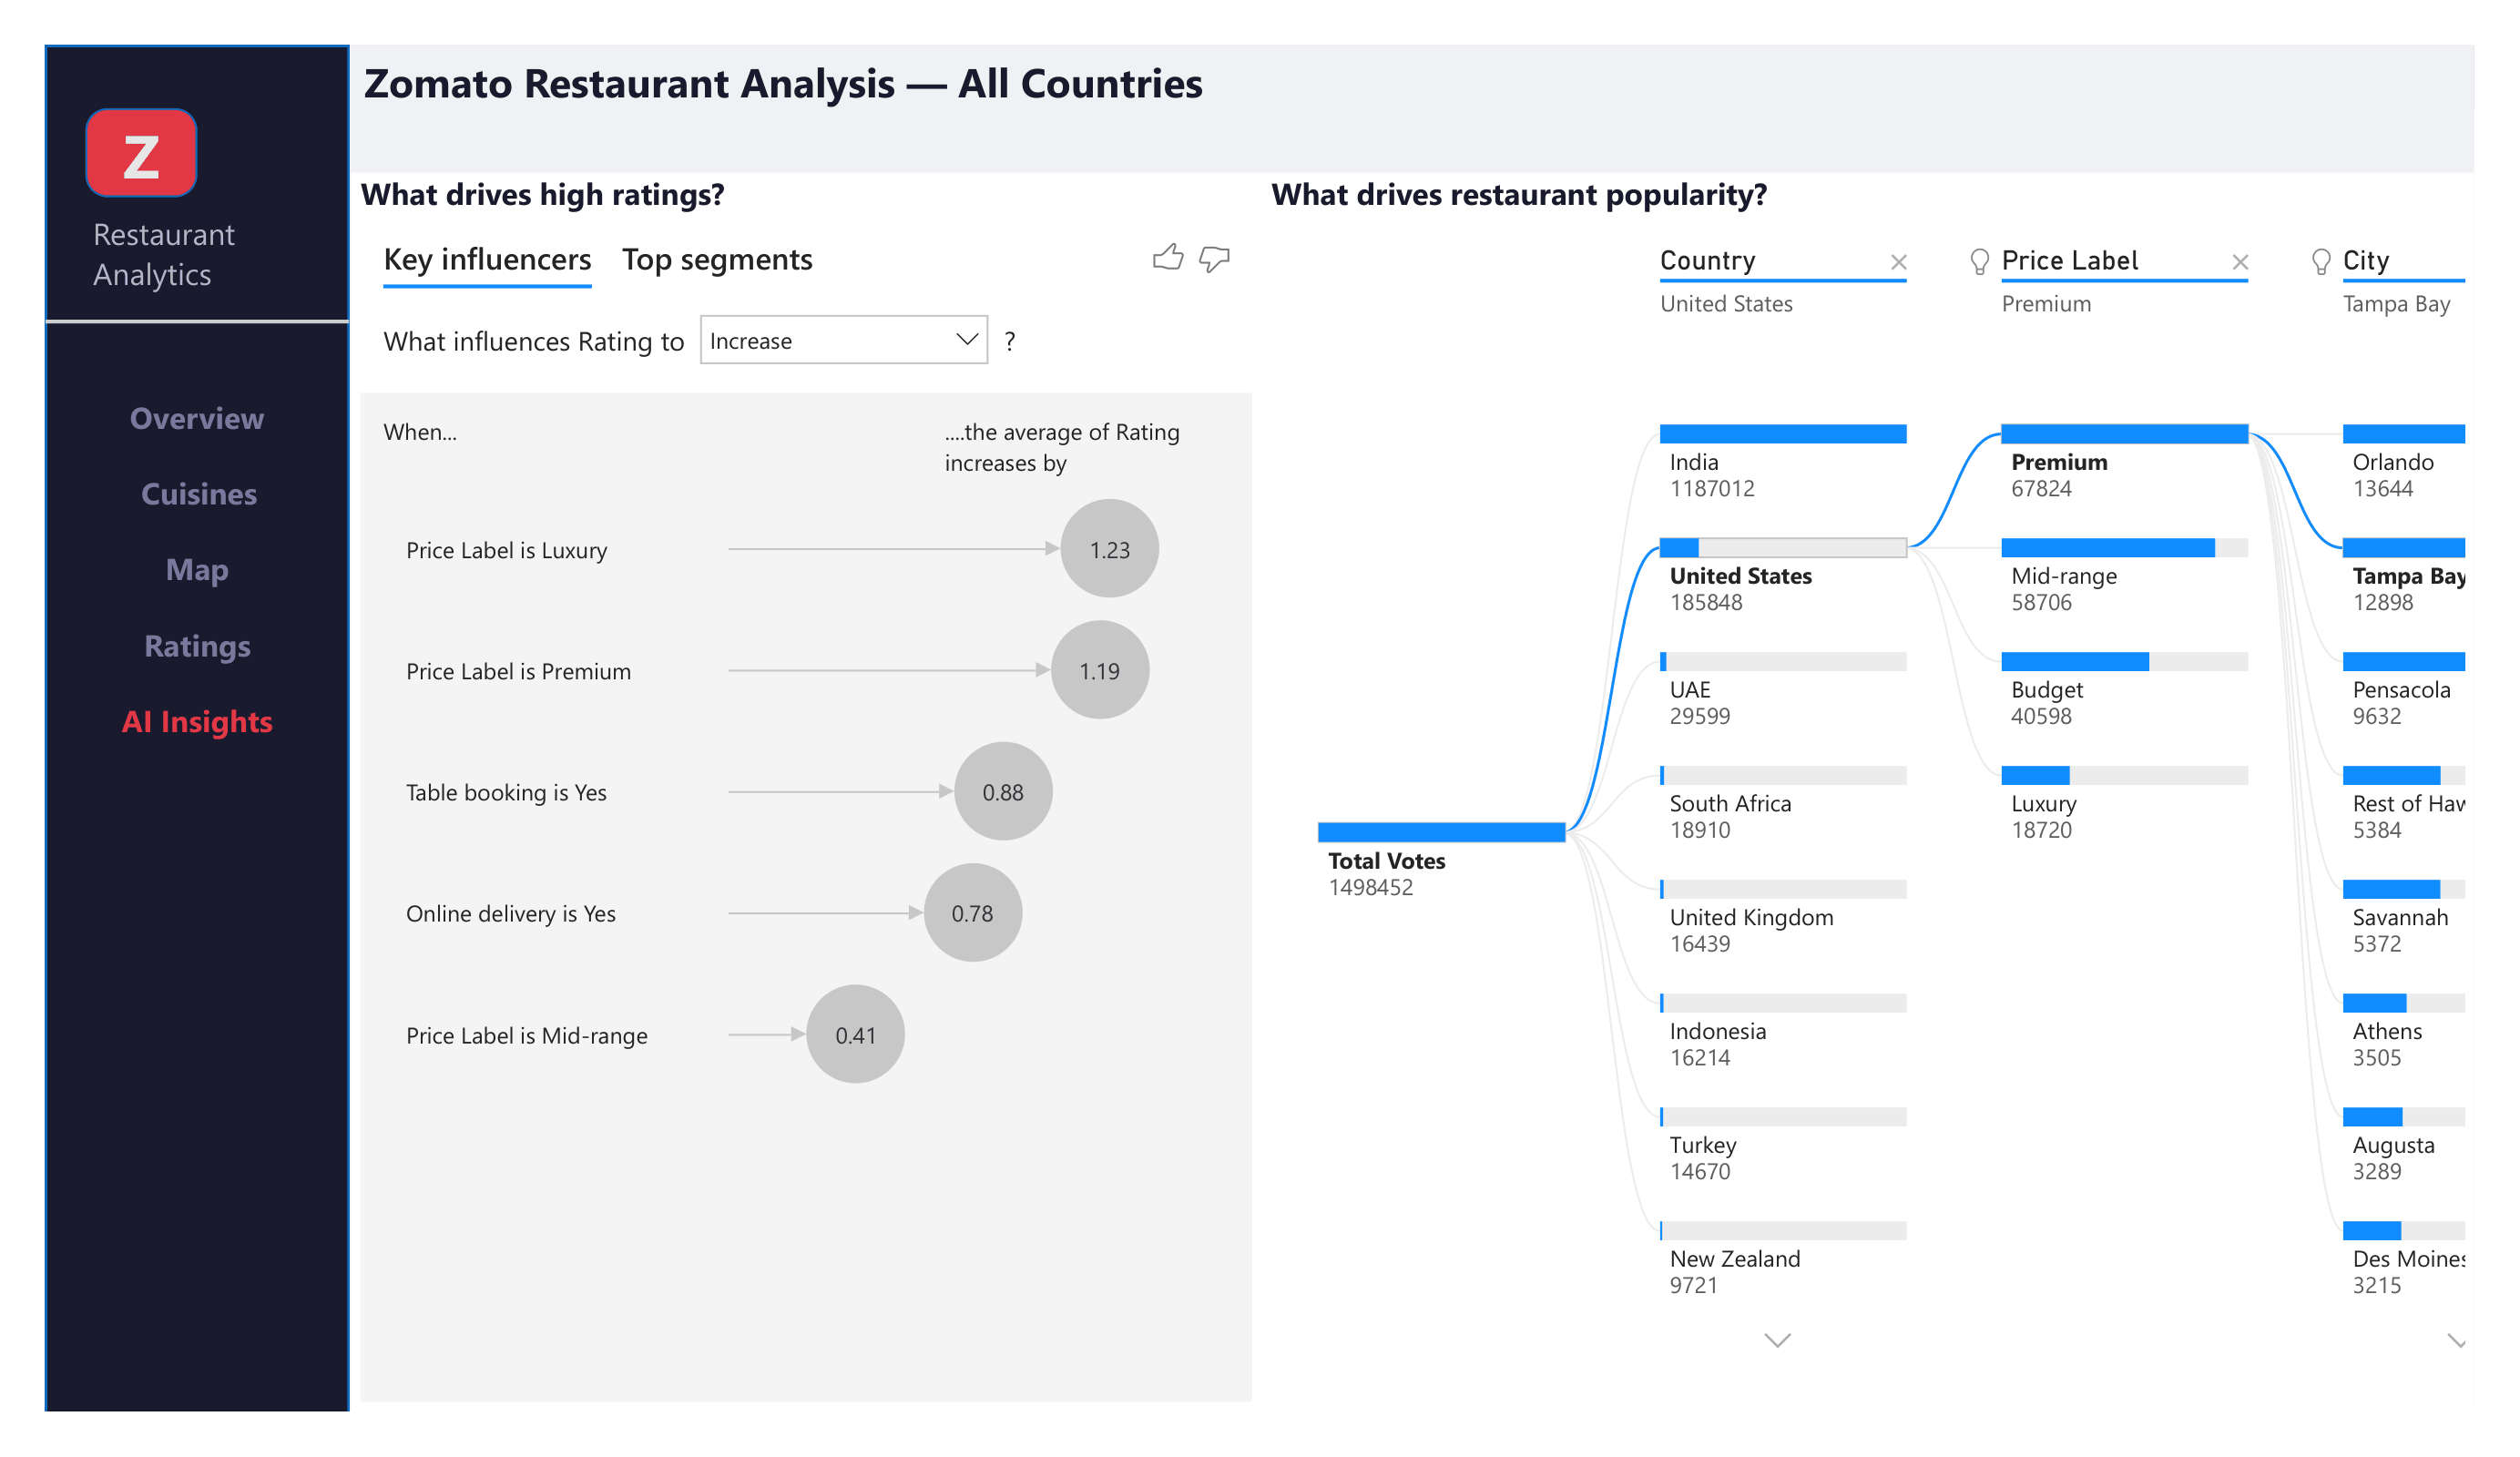

This screenshot's page, from the dashboard's own definition file:
{"tool":"powerbi","page":{"name":"AI Insights","canvas":[1280,720],"ordinal":4},"visuals":[{"type":"shape","box":[0,0,159.8,720.6],"z":0},{"type":"shape","box":[21.4,32.8,58.5,47.1],"z":1000},{"type":"textbox","box":[20,30,61.4,52.8],"z":2000},{"type":"textbox","box":[20,82.8,105.6,74.2],"z":3000},{"type":"actionButton","box":[0,175.5,159.8,40],"z":4000},{"type":"actionButton","box":[1.4,215.5,159.8,40],"z":5000},{"type":"actionButton","box":[0,255.4,159.8,40],"z":6000},{"type":"actionButton","box":[0,295.4,159.8,40],"z":7000},{"type":"actionButton","box":[0,335.3,159.8,40],"z":8000},{"type":"shape","box":[0,134.1,159.8,22.8],"z":9000},{"type":"keyDriversVisual","title":"What drives high ratings?","fields":{"Target":["Restaurants.Rating"],"ExplainBy":["Restaurants.Price Label","Restaurants.Cuisines","Restaurants.City","Restaurants.Online delivery","Restaurants.Table booking"]},"box":[161.3,67.4,479.2,652.6],"z":10000},{"type":"decompositionTreeVisual","title":"What drives restaurant popularity?","fields":{"Analyze":["_Measures.Total Votes"],"ExplainBy":["Country lookup.Country","Restaurants.City","Restaurants.Price Label","Restaurants.Cuisines"]},"box":[640.5,67.4,639.3,652.6],"z":11000},{"type":"card","fields":{"Values":["_Measures.Page Title"]},"box":[160.1,0,457.5,40.9],"z":12000}]}

Visuals, with their boxes on the page's 1280x720 design canvas (x1, y1, x2, y2). These are canvas units, not pixel positions in the 2520x1457 screenshot, which may show the page scaled, cropped or inside an application window:
shape: locate(0, 0, 160, 721)
shape: locate(21, 33, 80, 80)
textbox: locate(20, 30, 81, 83)
textbox: locate(20, 83, 126, 157)
actionButton: locate(0, 176, 160, 216)
actionButton: locate(1, 216, 161, 256)
actionButton: locate(0, 255, 160, 295)
actionButton: locate(0, 295, 160, 335)
actionButton: locate(0, 335, 160, 375)
shape: locate(0, 134, 160, 157)
"What drives high ratings?" keyDriversVisual: locate(161, 67, 640, 720)
"What drives restaurant popularity?" decompositionTreeVisual: locate(640, 67, 1280, 720)
card - _Measures.Page Title: locate(160, 0, 618, 41)
